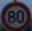Speed Limit -80-: (0, 0, 31, 30)
